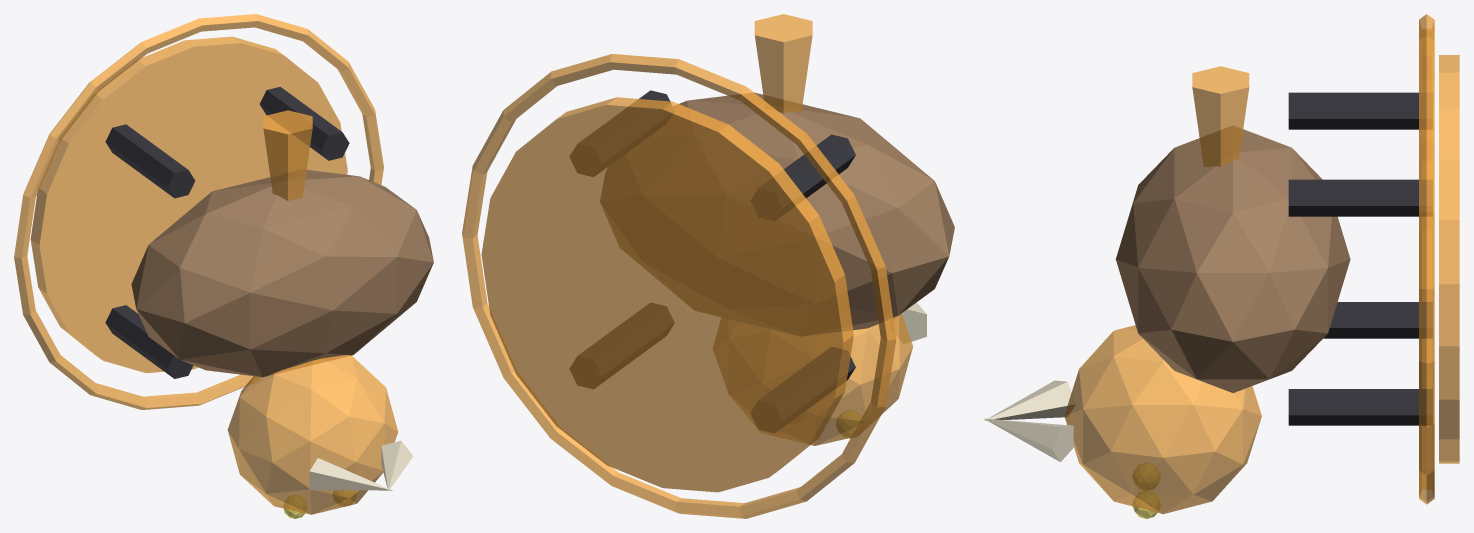
File: 04_fire_imp_summon.glb
3 renders of one model, left to right at view 1: azimuth 30°, elevation 25°; view 2: azimuth 150°, elevation 25°; view 3: azimuth 270°, elevation 25°, orthographic. The views are drawn at different scales.
Parts seen in each view (by area): view 1: body, base_disc, head, base_ring, tail, leg_bl, leg_br, leg_fl, horn_l, horn_r; view 2: base_disc, body, base_ring, head, tail, leg_bl, leg_br, leg_fl, leg_fr, horn_l; view 3: body, head, base_disc, base_ring, leg_bl, leg_br, leg_fr, tail, leg_fl, horn_l, horn_r, eye_r (+1 smaller).
Boxes of the visible parts, x1,y1,x2,y2 form: body: [131, 169, 433, 377]; base_disc: [30, 36, 347, 373]; head: [227, 355, 398, 514]; base_ring: [14, 14, 383, 409]; tail: [263, 110, 312, 200]; leg_bl: [105, 124, 195, 198]; leg_br: [259, 86, 349, 160]; leg_fl: [105, 305, 193, 378]; horn_l: [309, 458, 392, 490]; horn_r: [381, 440, 413, 490]; base_disc: [481, 97, 853, 492]; body: [600, 92, 954, 335]; base_ring: [462, 54, 896, 518]; head: [713, 313, 912, 445]; tail: [754, 14, 812, 113]; leg_bl: [751, 134, 855, 220]; leg_br: [570, 90, 674, 176]; leg_fl: [751, 347, 855, 432]; leg_fr: [570, 303, 674, 388]; horn_l: [893, 302, 926, 343]; body: [1115, 126, 1350, 392]; head: [1064, 325, 1261, 514]; base_disc: [1439, 55, 1459, 463]; base_ring: [1419, 14, 1434, 504]; leg_bl: [1288, 92, 1432, 129]; leg_br: [1288, 179, 1432, 216]; leg_fr: [1288, 389, 1432, 425]; tail: [1192, 66, 1249, 166]; leg_fl: [1323, 302, 1432, 338]; horn_l: [984, 380, 1075, 420]; horn_r: [984, 418, 1073, 462]; eye_r: [1133, 491, 1160, 518].
Size of the model in its own units: 1.2 by 1.26 by 1.16.
